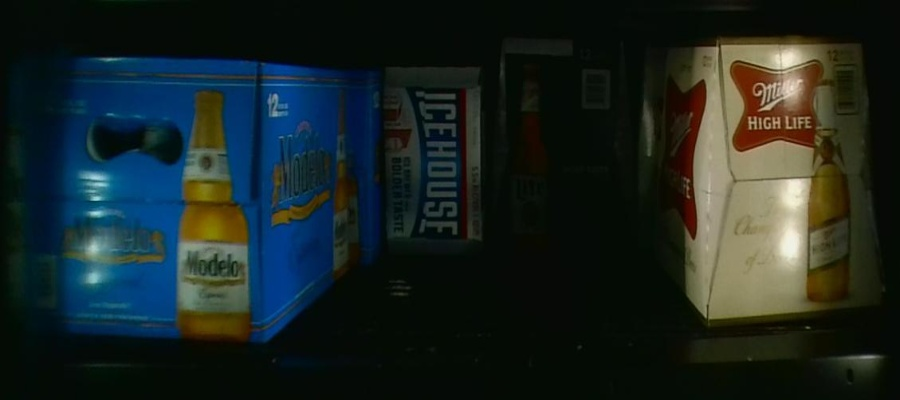bottle: (17, 63, 375, 330), (641, 38, 882, 319), (496, 35, 629, 254), (383, 64, 483, 256)
